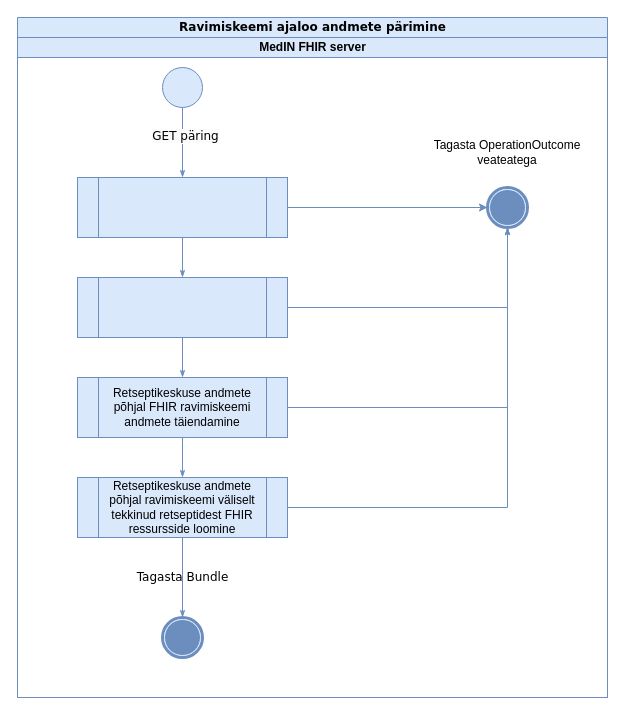
Some shapes in this 625 by 715 pixel diagram are drawn without their labels. Each missing label, with the box of its shape:
FHIR andmete leidmine: (76, 176, 288, 238)
Retseptikeskusest patsiendiga seotud retseptide pärimine: (76, 276, 288, 338)
